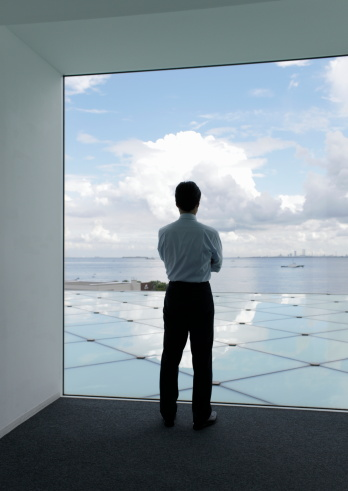em pe: (151, 167, 221, 435)
